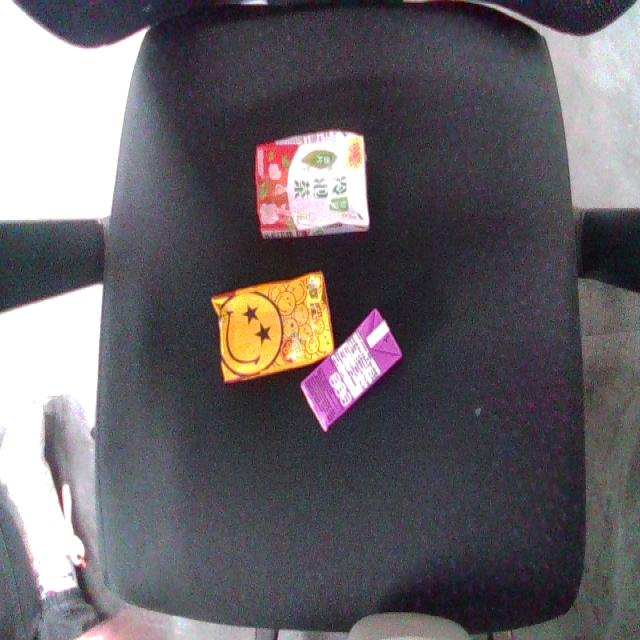juicebox: (265, 281, 440, 458), (227, 90, 397, 265), (182, 255, 363, 413)
